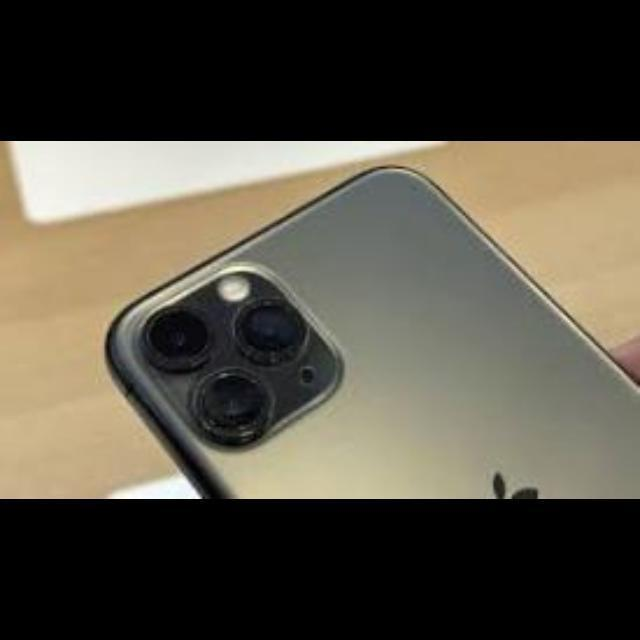phone: (85, 158, 640, 490)
